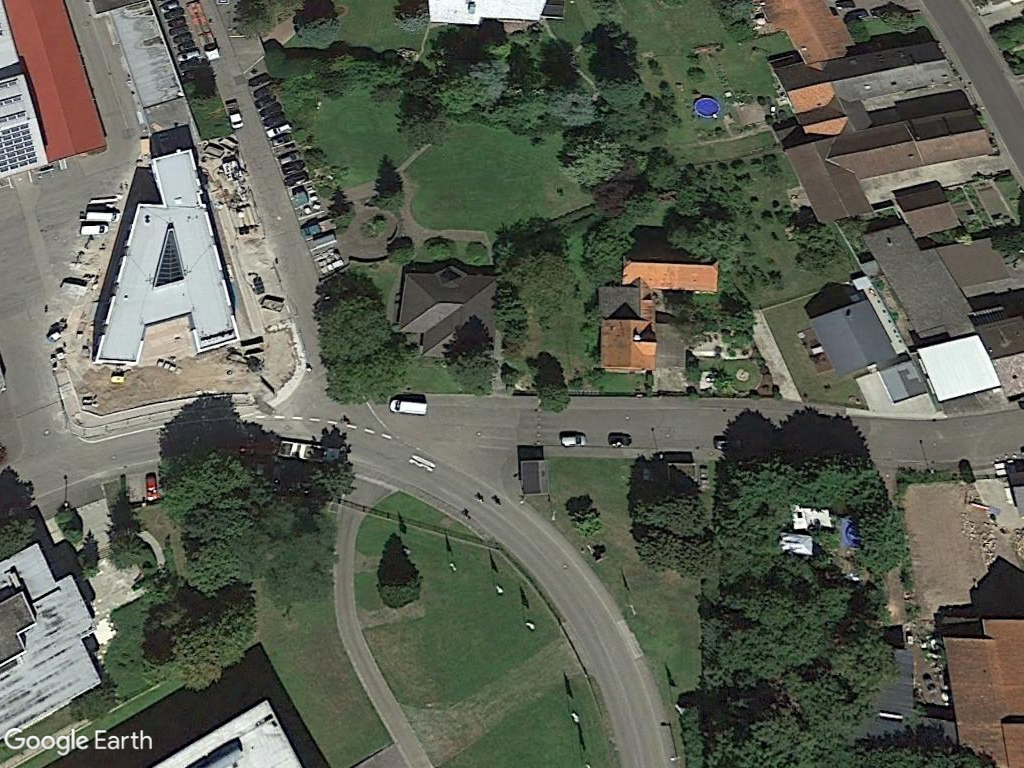van: (387, 393, 434, 421)
